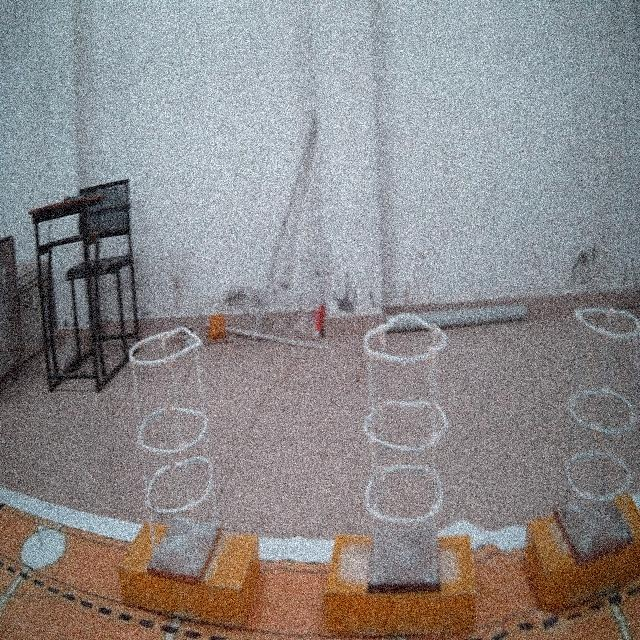silo: (344, 295, 449, 600), (123, 316, 227, 598), (552, 284, 640, 590)
